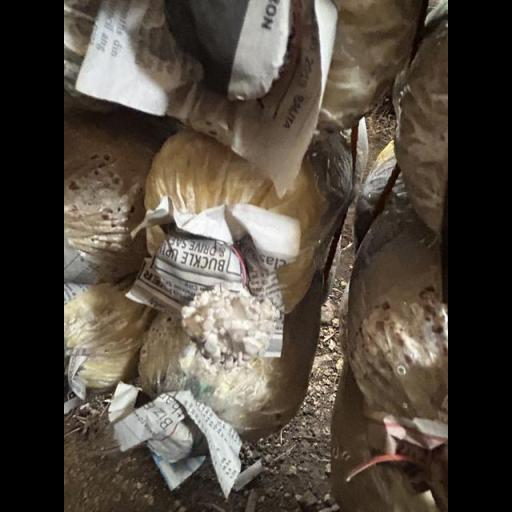White Oyster Mushroom: (155, 268, 284, 371)
